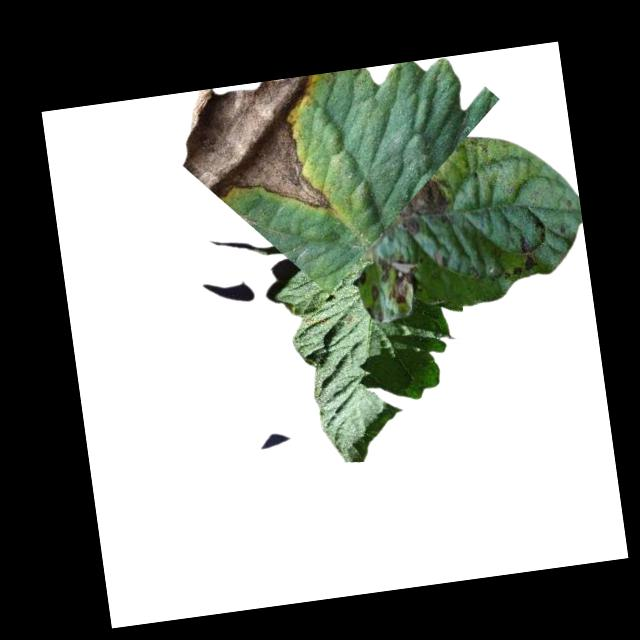Early_blight: (171, 74, 333, 231), (386, 178, 450, 239), (374, 247, 424, 308), (506, 235, 541, 276), (306, 312, 333, 332), (370, 283, 382, 305)
